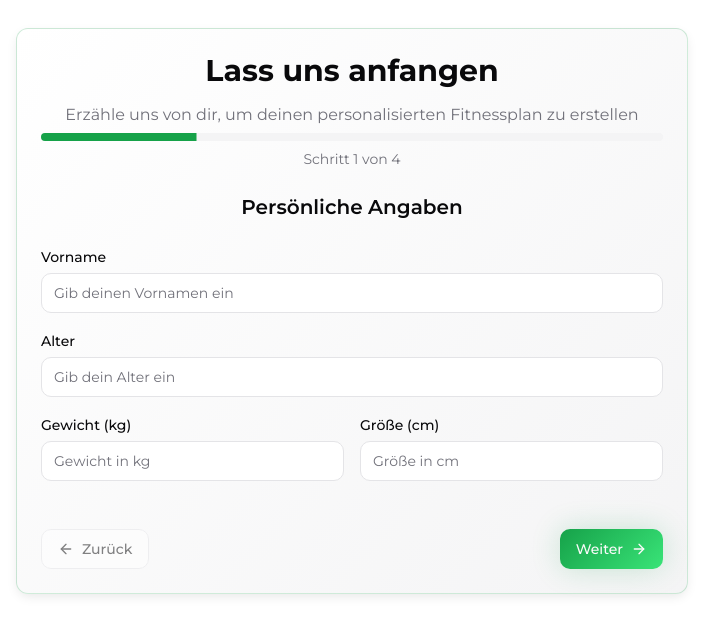
Test: German onboarding › retains the bounds and localizes Alter=12
Type "Mia" into the field labelled "Vorname".
click(352, 293); type("Mia")  # box [41, 273, 663, 313]
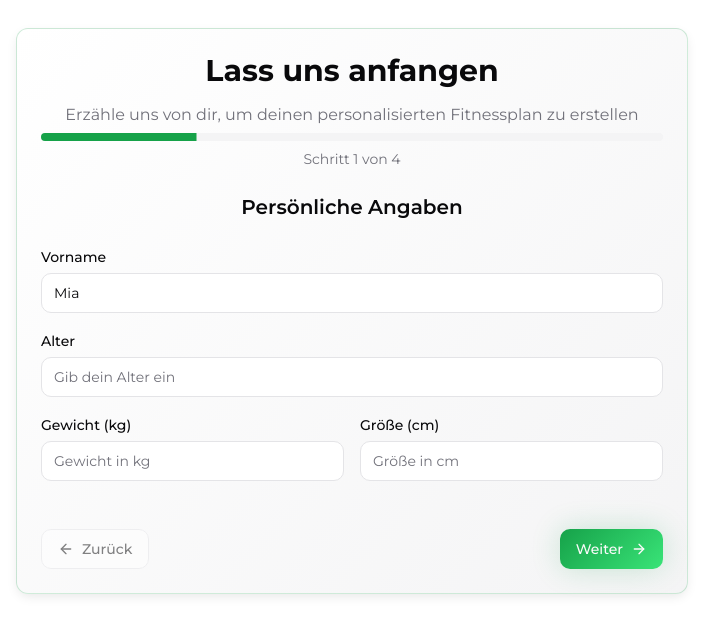
Type "31" into the number field labelled "Alter".
click(352, 377); type("31")  # box [41, 357, 663, 397]
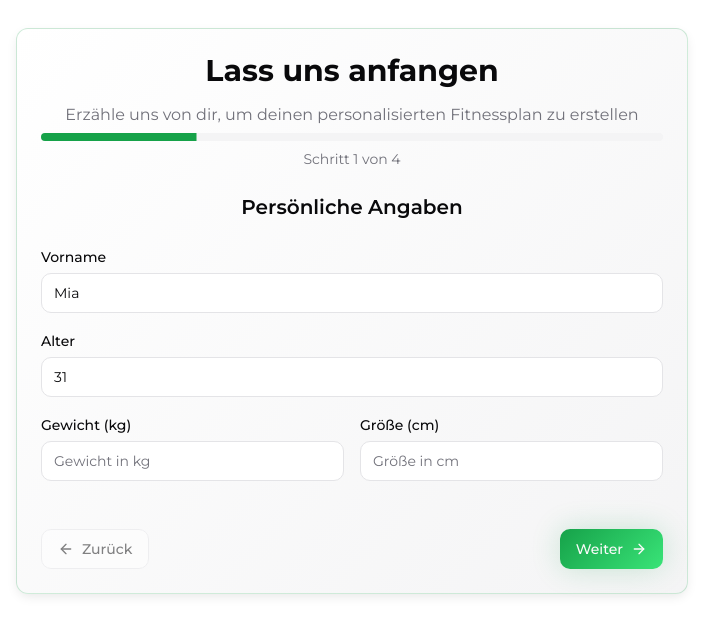
Type "72" into the number field labelled "Gewicht (kg)".
click(192, 461); type("72")  # box [41, 441, 344, 481]
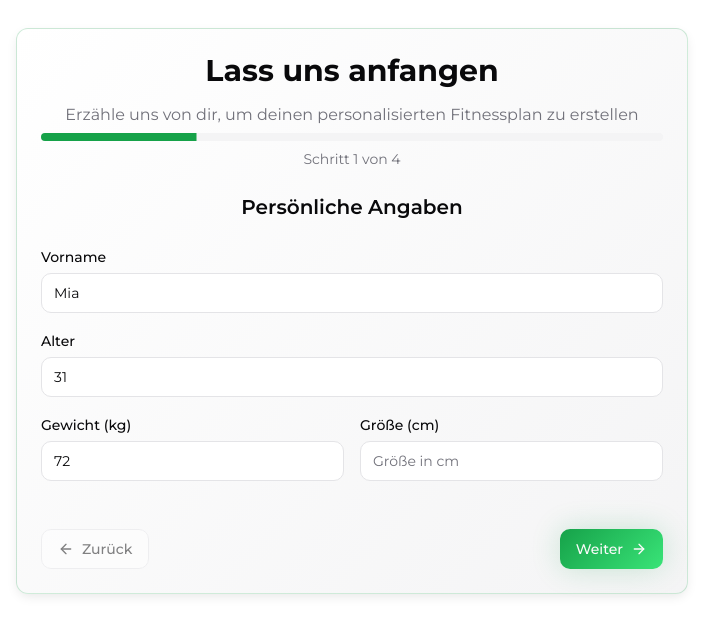
Type "168" into the number field labelled "Größe (cm)".
click(512, 461); type("168")  # box [360, 441, 663, 481]
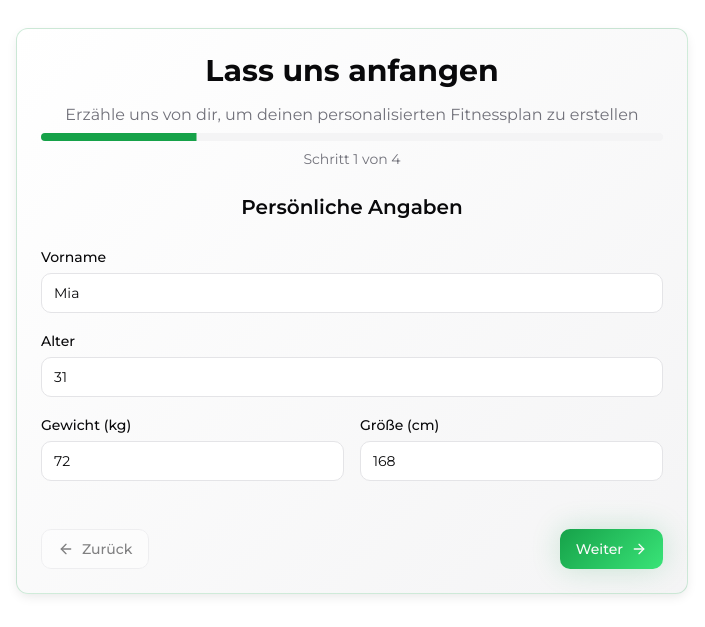
Replace the text in the number field labelled "Alter" with "12" at [352, 377], box [41, 357, 663, 397]
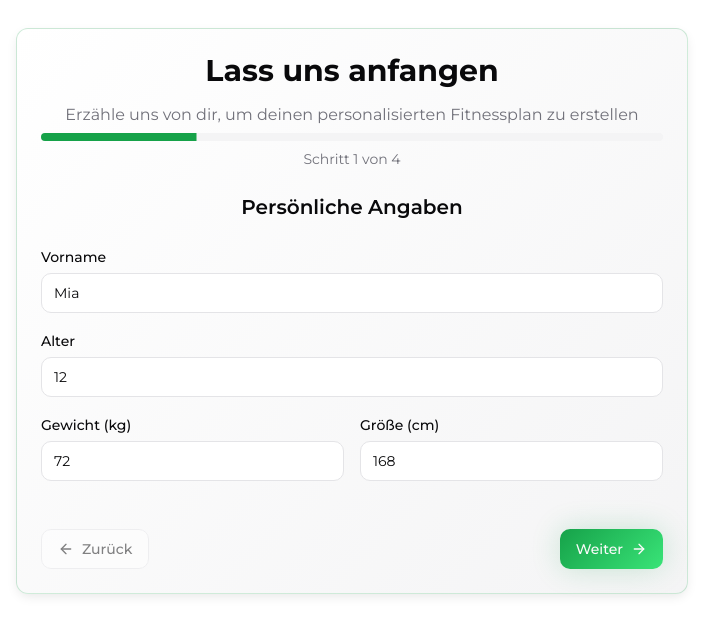
Click the button "Weiter".
click(611, 549)  # box [560, 529, 663, 569]
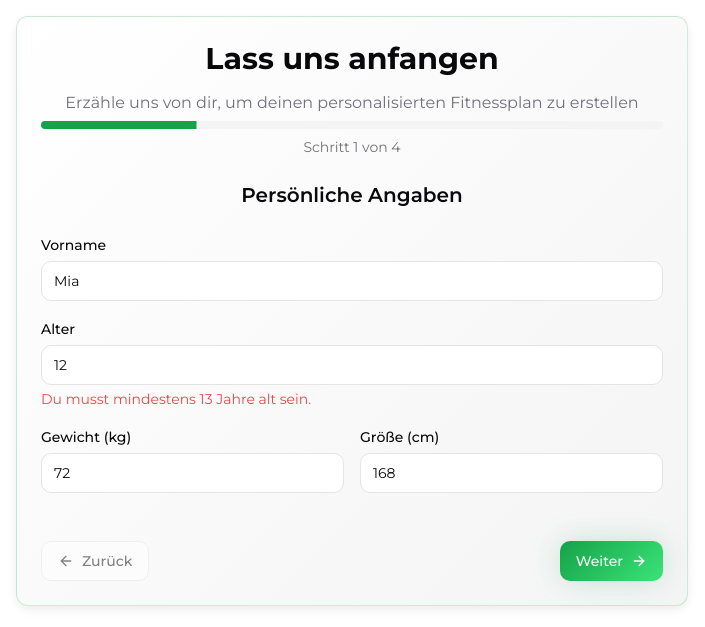
expect the heading "Persönliche Angaben" is shown: met, box [241, 183, 463, 207]
expect the text "Du musst mindestens 13 Jahre alt sein." is shown: met, box [41, 390, 311, 408]
